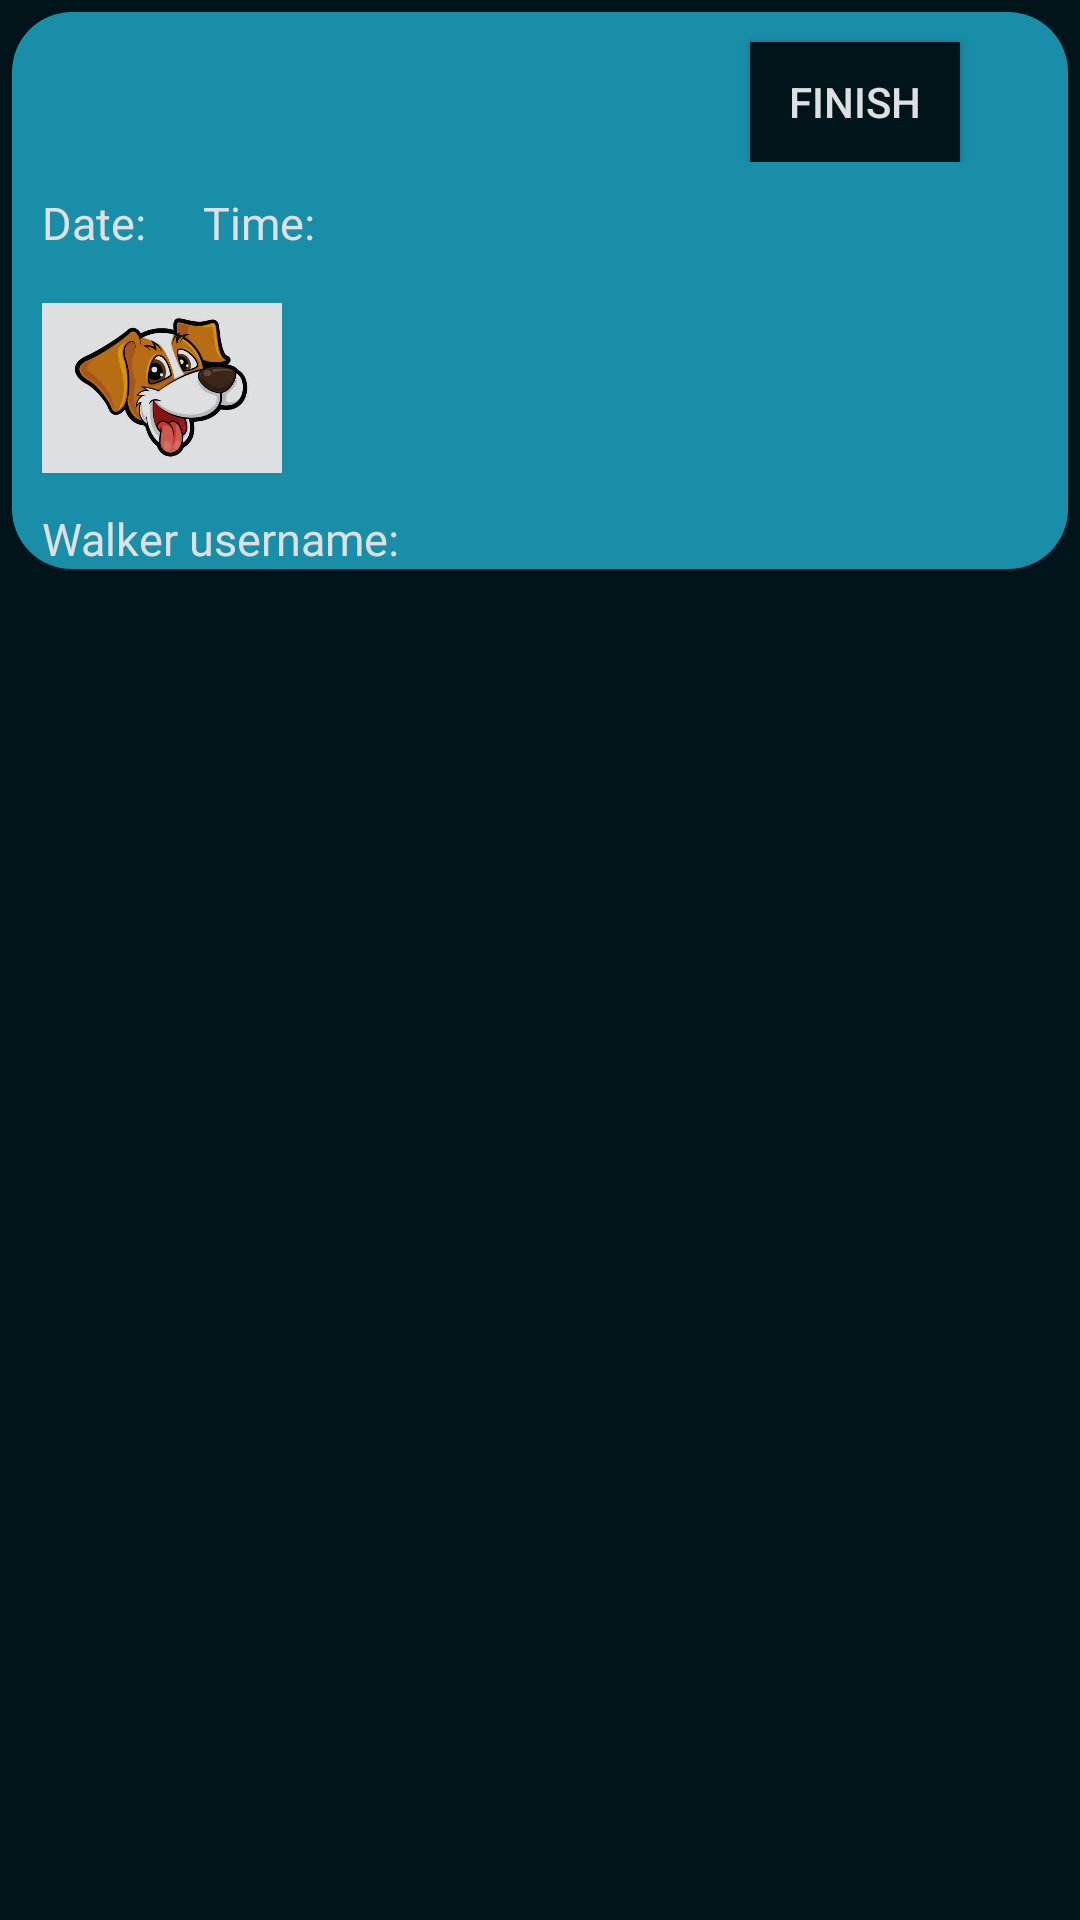

Icon bounding boxes for this 1080 × 1920 phone screenshot, format (x1,y1,x2,y2):
littledog: (42,303,282,473)
